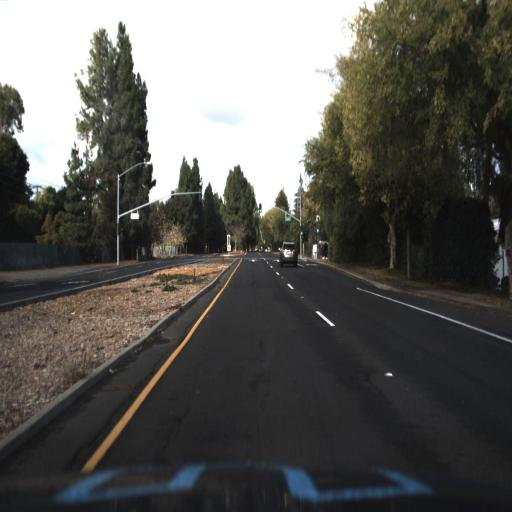car: (279, 241, 299, 268)
trafficLight-Green: (313, 223, 321, 241), (299, 222, 305, 240), (258, 199, 264, 215)
